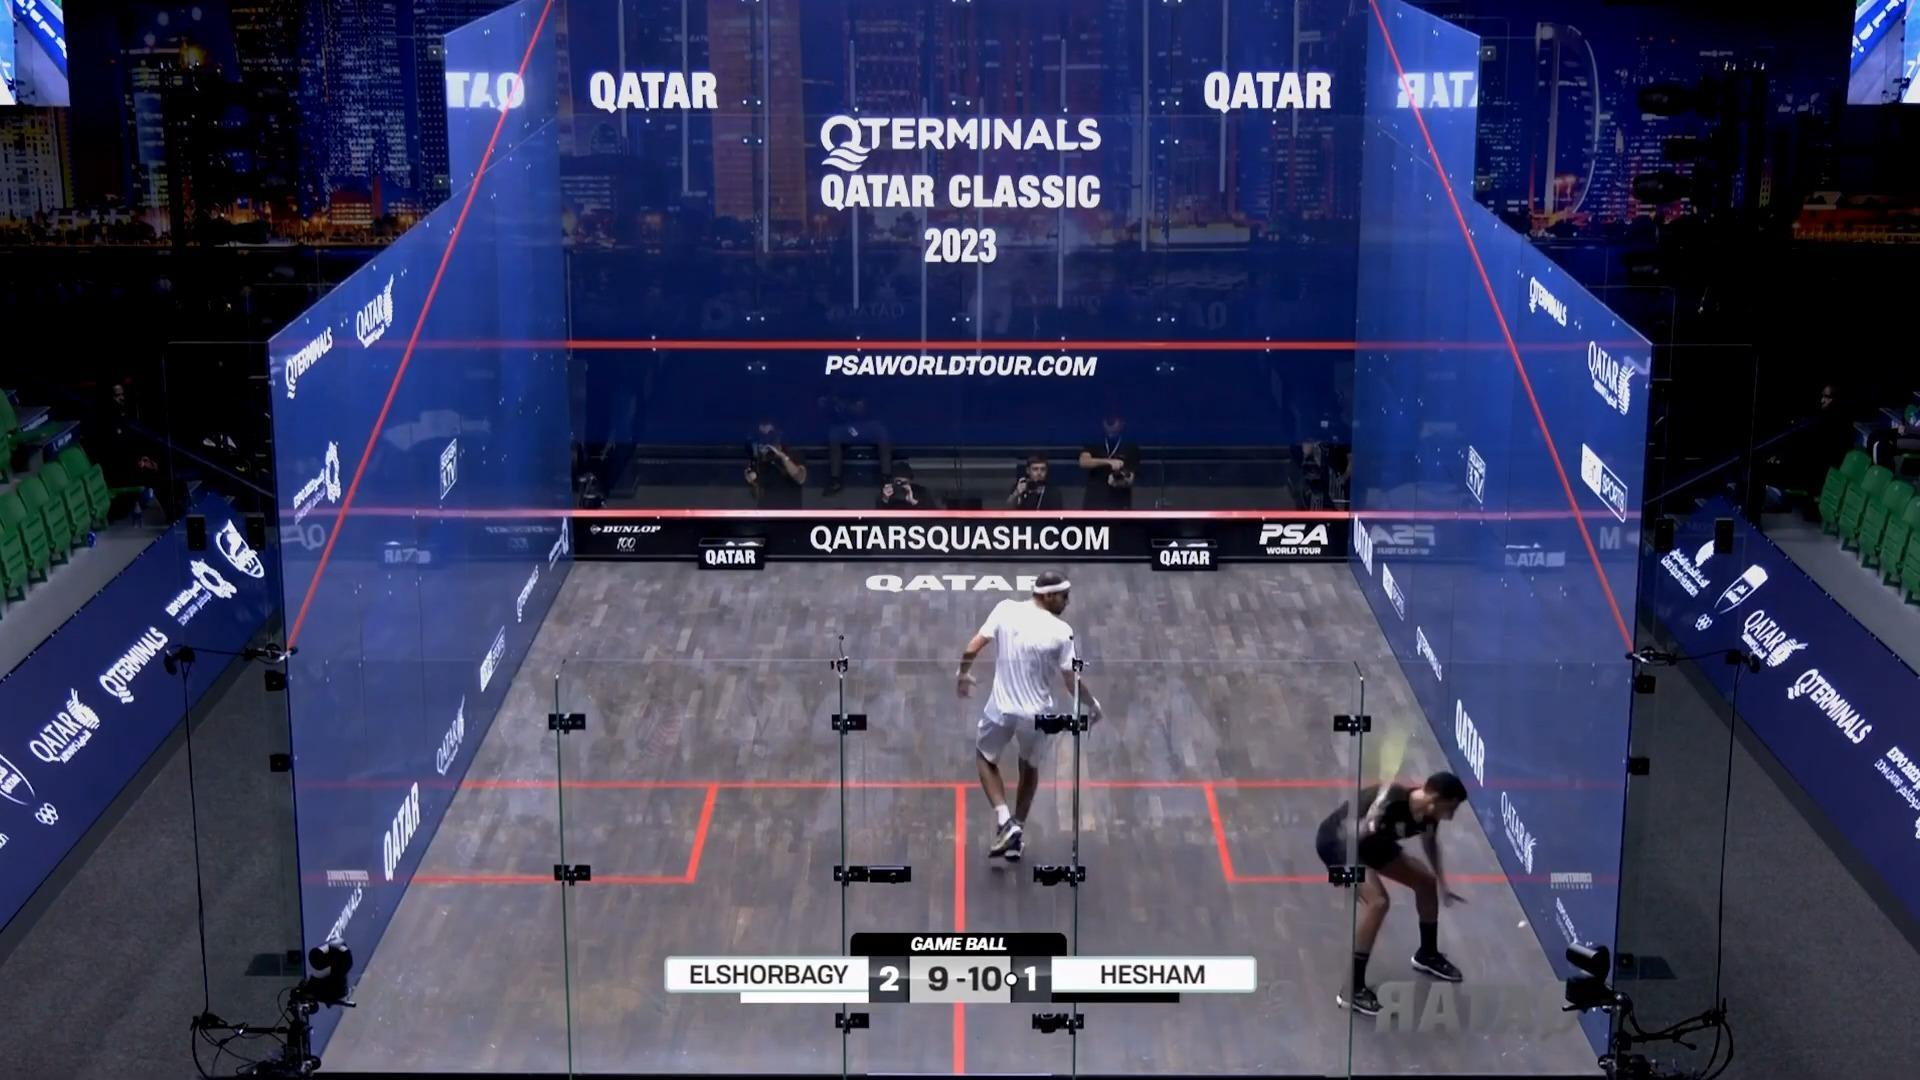Squash-Ball: (1510, 909, 1539, 943)
